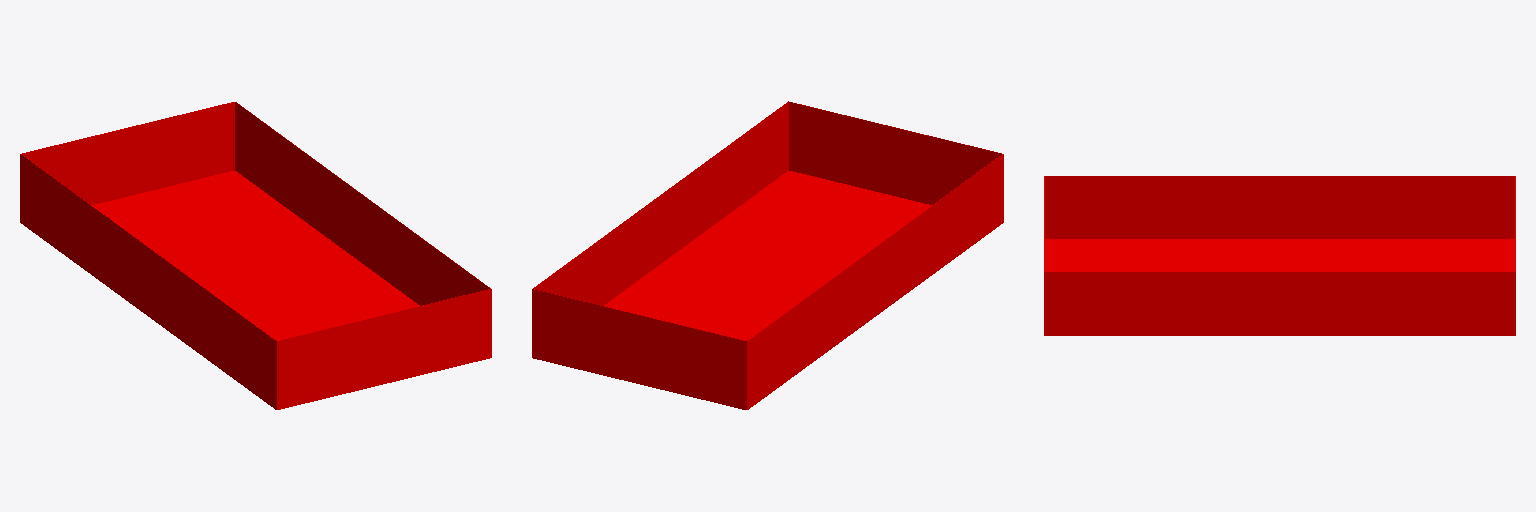
robot.urdf — square.urdf:
<?xml version="1.0" ?>
<robot name="square.urdf">
  <link name="baseLink">
    <contact>
      <lateral_friction value="1.0"/>
      <inertia_scaling value="3.0"/>
    </contact>
    <inertial>
      <origin rpy="0 0 0" xyz="0 0 0"/>
       <mass value=".1"/>
       <inertia ixx="1" ixy="0" ixz="0" iyy="1" iyz="0" izz="1"/>
    </inertial>
    <visual>
      <origin rpy="0 0 0" xyz="0 0 0"/>
      <geometry>
        <mesh filename="5.stl" scale="1 1 1" />
      </geometry>
      <material name="red">
        <color rgba="1 0 0 1"/>
      </material>
    </visual>
    <collision>
      <origin rpy="0 0 0" xyz="0 0 0"/>
      <geometry>
        <mesh filename="5_convex.obj" scale="1 1 1" />
      </geometry>
    </collision>
  </link>
</robot>

--- Render facts (derived) ---
The picture shows the robot from 3 angles, left to right: view 1: azimuth 30°, elevation 25°; view 2: azimuth 150°, elevation 25°; view 3: azimuth 270°, elevation 25°; orthographic projection.
Robot: square.urdf — 1 links, 0 joints (none); root link baseLink; default pose: every joint at zero.
Visible links, largest first — view 1: baseLink; view 2: baseLink; view 3: baseLink.
Boxes of the visible links, x1,y1,x2,y2 form: baseLink: (20,102,491,409); baseLink: (532,101,1003,409); baseLink: (1044,176,1515,335).
Bounding box of the posed robot: 0.4623 × 0.955 × 0.1423 m (x, y, z).
1 mesh visuals loaded from 1 distinct referenced files (1 binary STL).